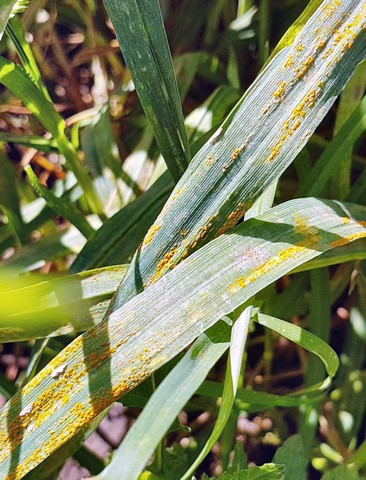Leaf Rust: (6, 315, 189, 468), (230, 1, 366, 177)
